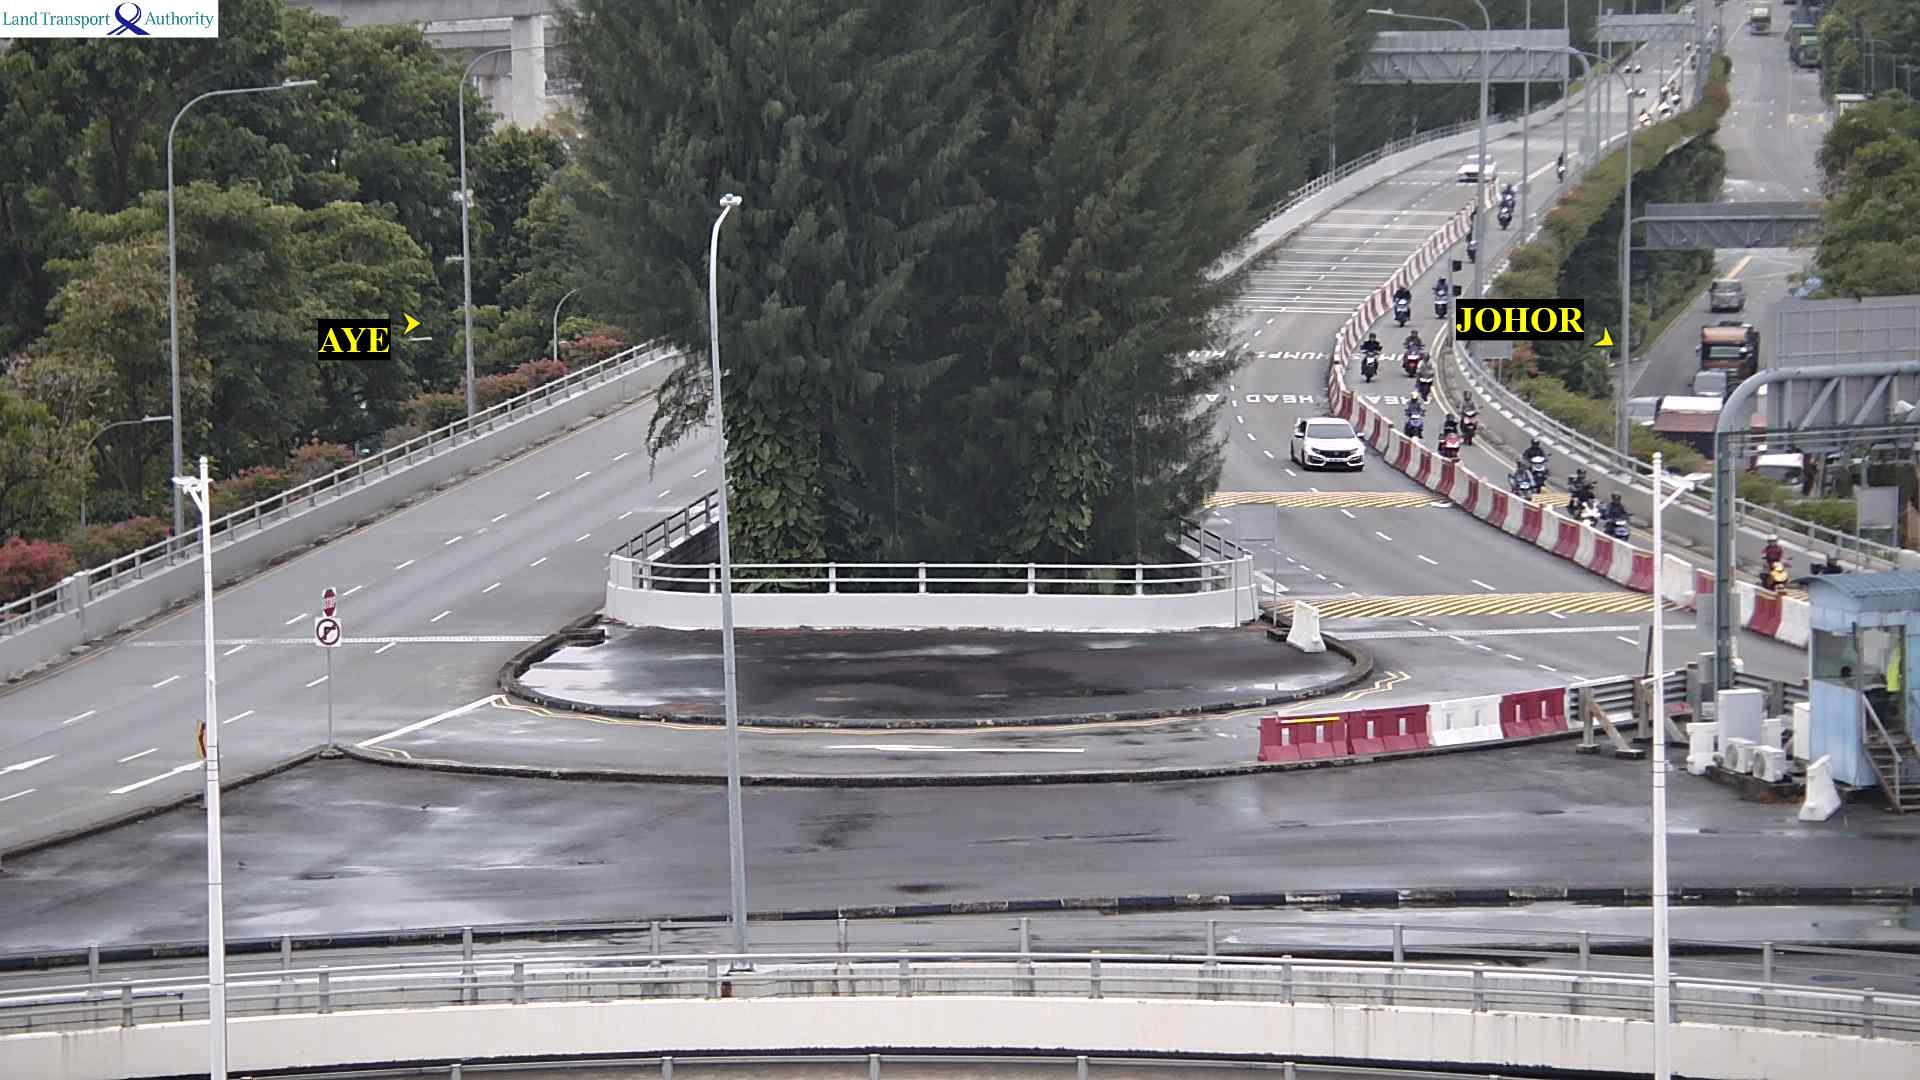vehicle-secondlink-johor: (1288, 418, 1367, 469), (1600, 496, 1635, 539), (1440, 423, 1473, 464), (1572, 471, 1596, 520), (1764, 537, 1785, 587), (1462, 156, 1491, 185), (1528, 439, 1547, 484), (1461, 388, 1476, 439), (1513, 460, 1531, 496), (1419, 355, 1433, 396), (1407, 397, 1422, 436), (1364, 336, 1377, 376), (1395, 291, 1412, 322), (1407, 331, 1418, 371), (1435, 278, 1447, 313), (1502, 185, 1513, 220), (1468, 223, 1474, 261), (1557, 152, 1564, 179)
